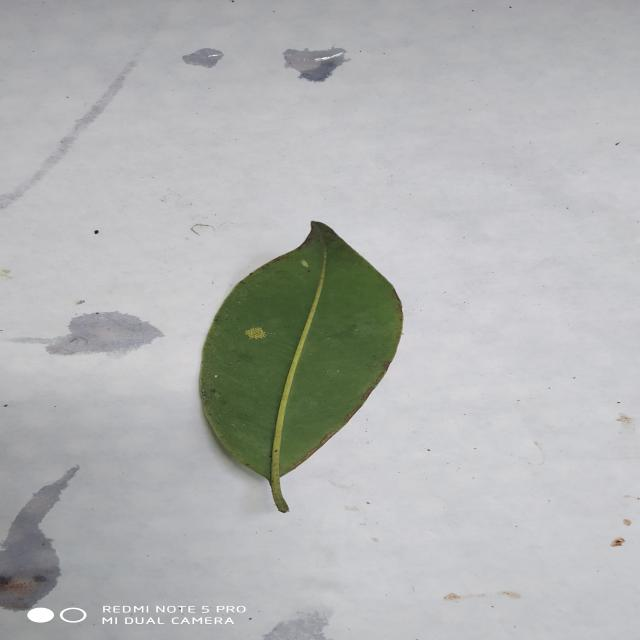sapota: (200, 221, 402, 512)
